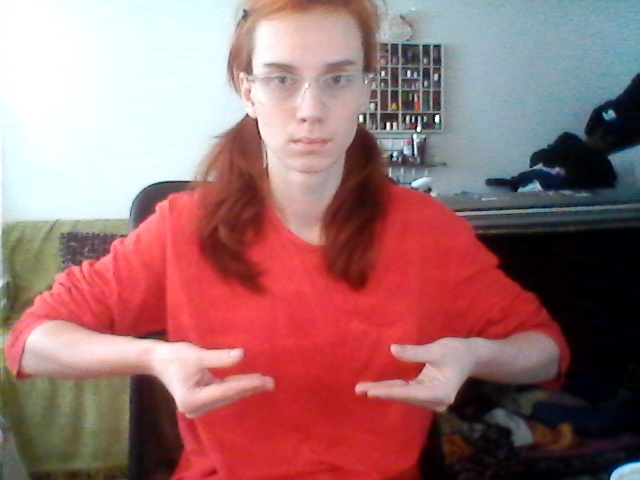drzat: (163, 328, 466, 419)
